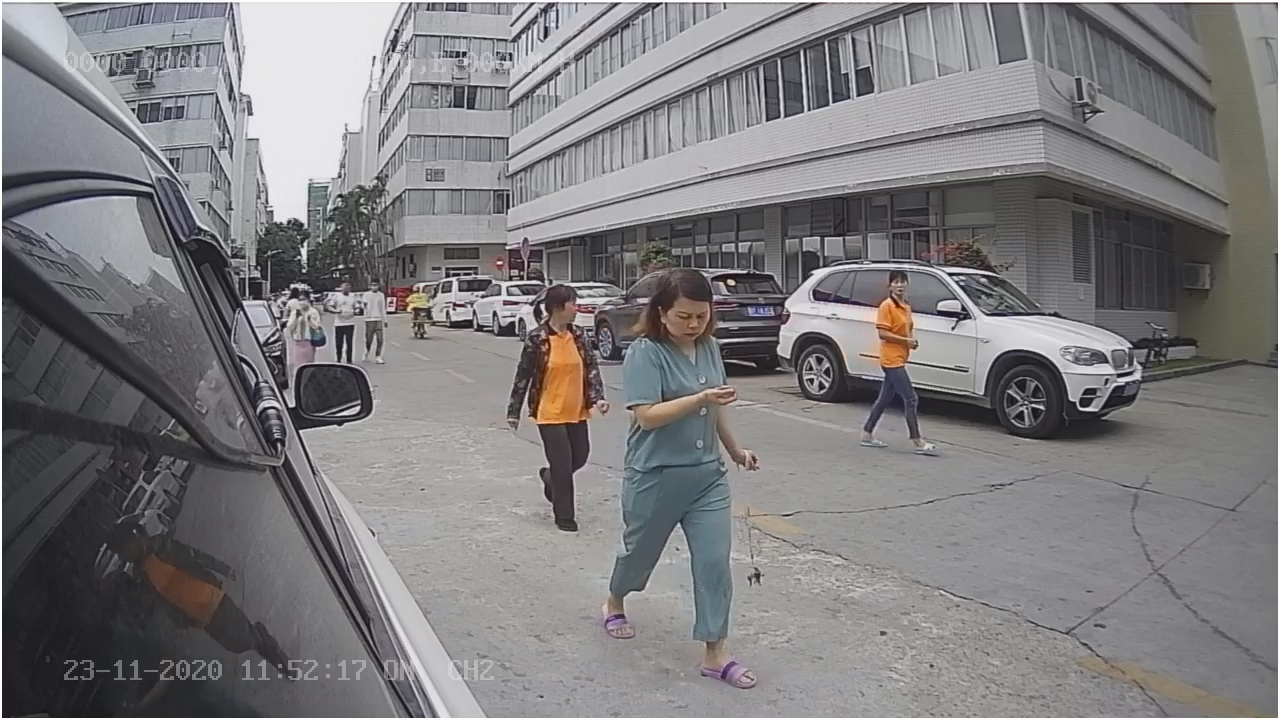person: (611, 264, 763, 688), (520, 282, 604, 535), (862, 265, 939, 456)
